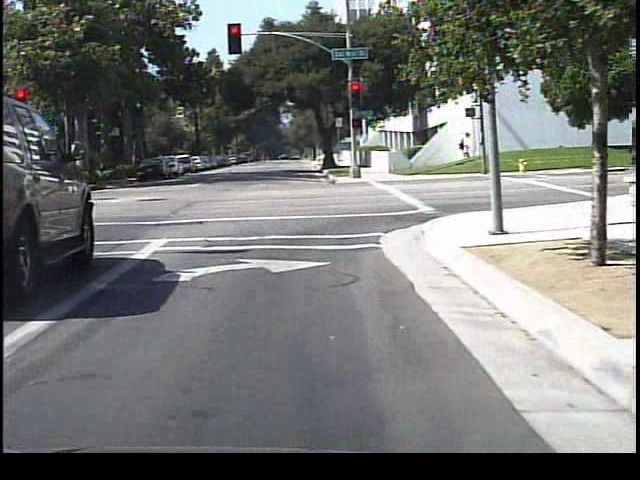person: (453, 128, 477, 173)
